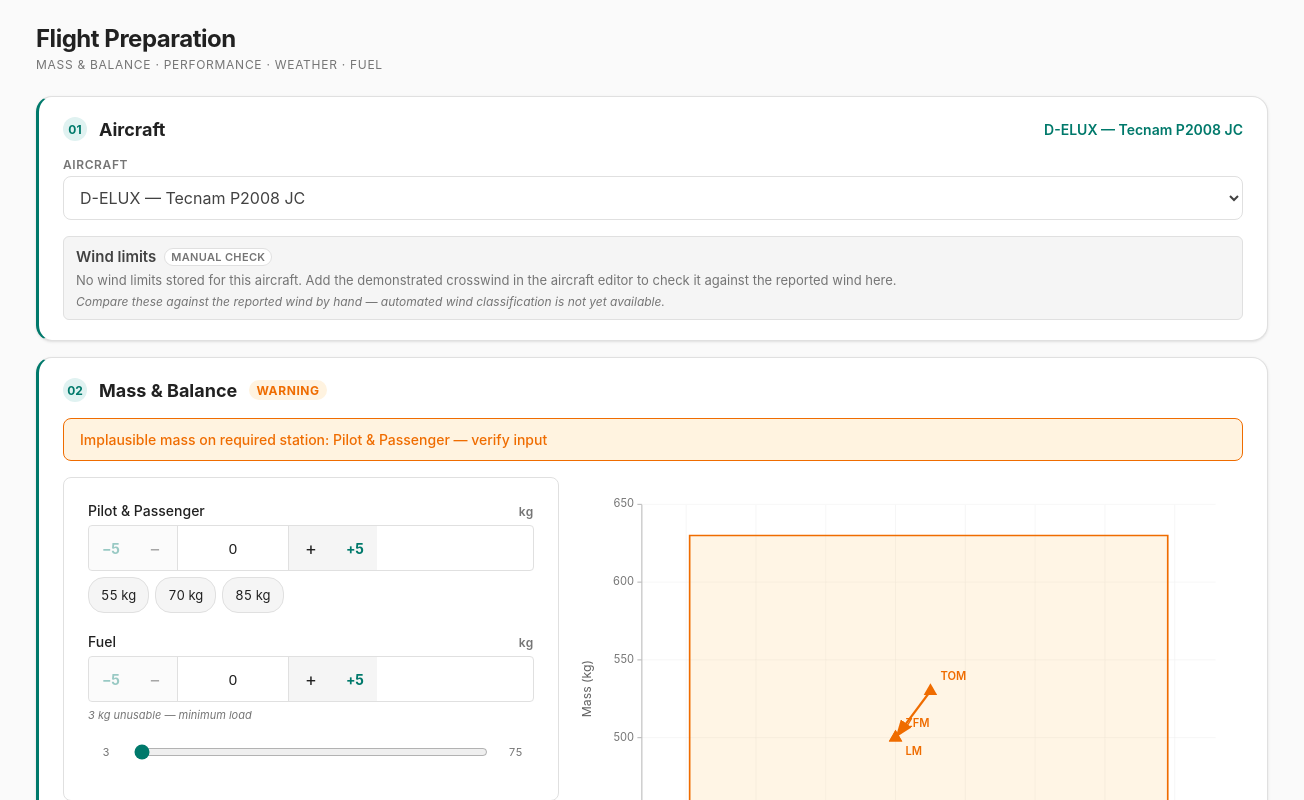
Test: MassBalanceView integration › renders VERIFIED_SAFE success UI
Replace the text in the field with id "station-0" with "80" at (233, 548), box [177, 526, 289, 570]
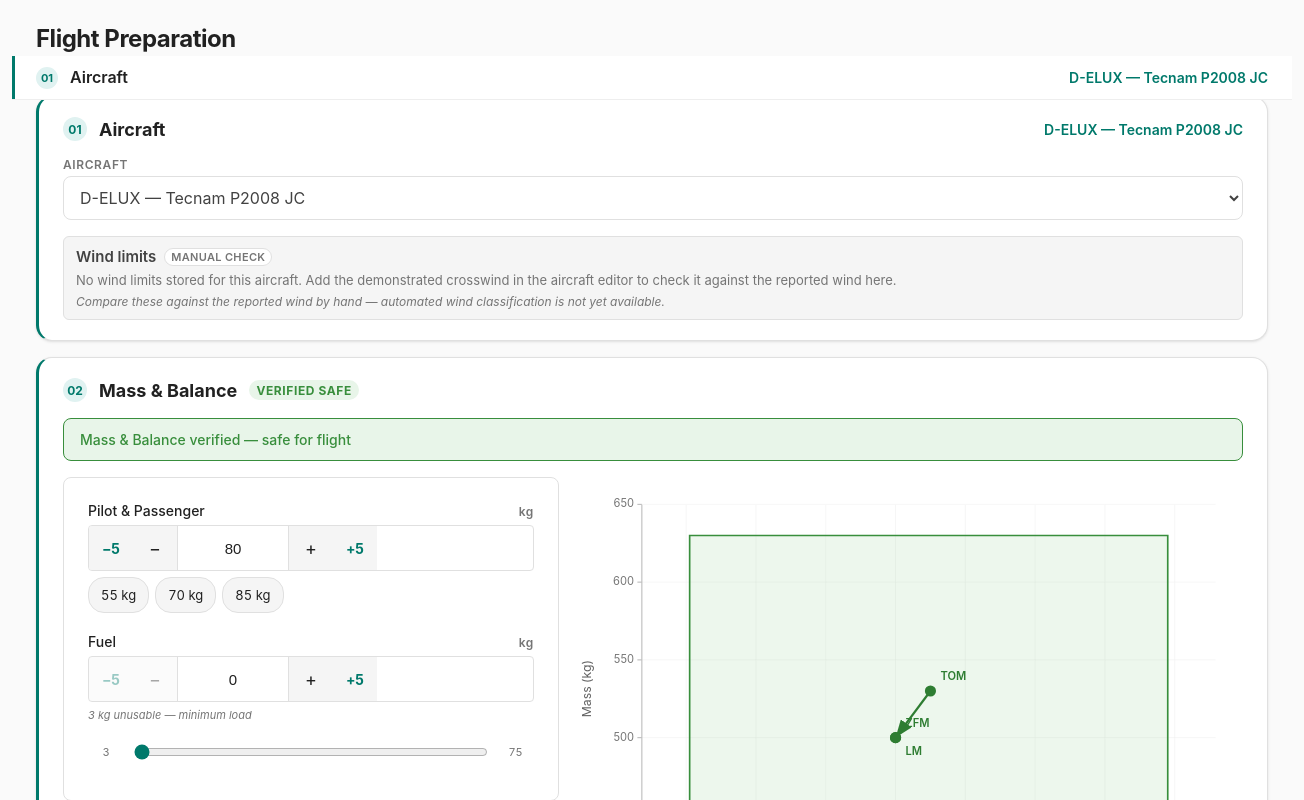
Now the message "Mass & Balance verified — safe for flight" is shown, box [63, 418, 1243, 461]
Now the text "Mass & Balance VERIFIED" is shown, box [63, 378, 359, 402]
